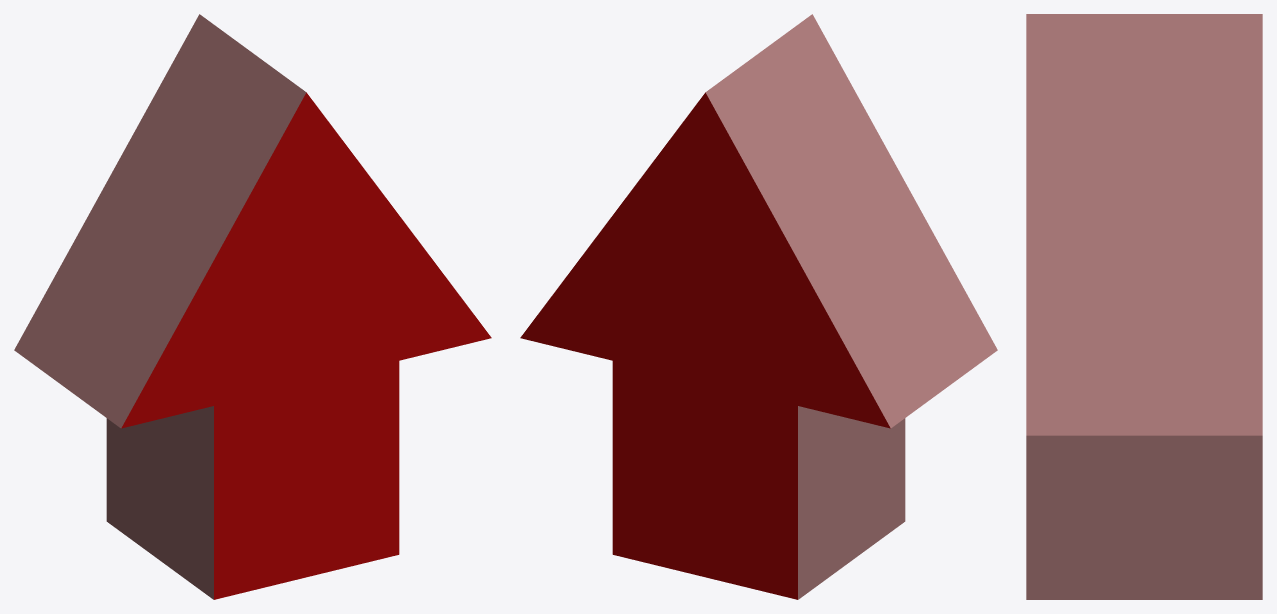
The model's file is ArrowUp.fbx.
3 renders of one model, left to right at view 1: azimuth 30°, elevation 25°; view 2: azimuth 150°, elevation 25°; view 3: azimuth 270°, elevation 25°, orthographic. The views are drawn at different scales.
Parts seen in each view (by area): view 1: ArrowUp; view 2: ArrowUp; view 3: ArrowUp.
Boxes of the visible parts, x1,y1,x2,y2 form: ArrowUp: [14, 14, 491, 599]; ArrowUp: [520, 14, 997, 599]; ArrowUp: [1026, 14, 1262, 599].
Bounding box in the file's own units: 79.94 × 99.93 × 39.97.
